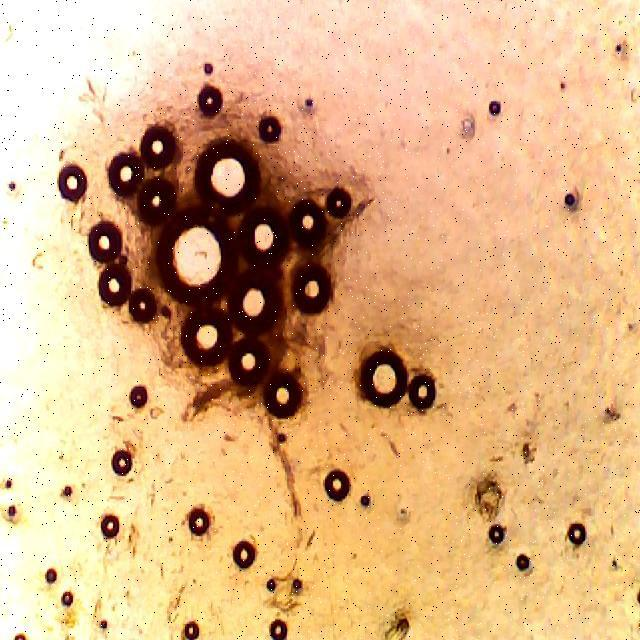microbeads: (357, 346, 409, 409), (292, 262, 336, 314), (106, 153, 146, 200), (86, 220, 125, 264), (56, 164, 88, 204)
